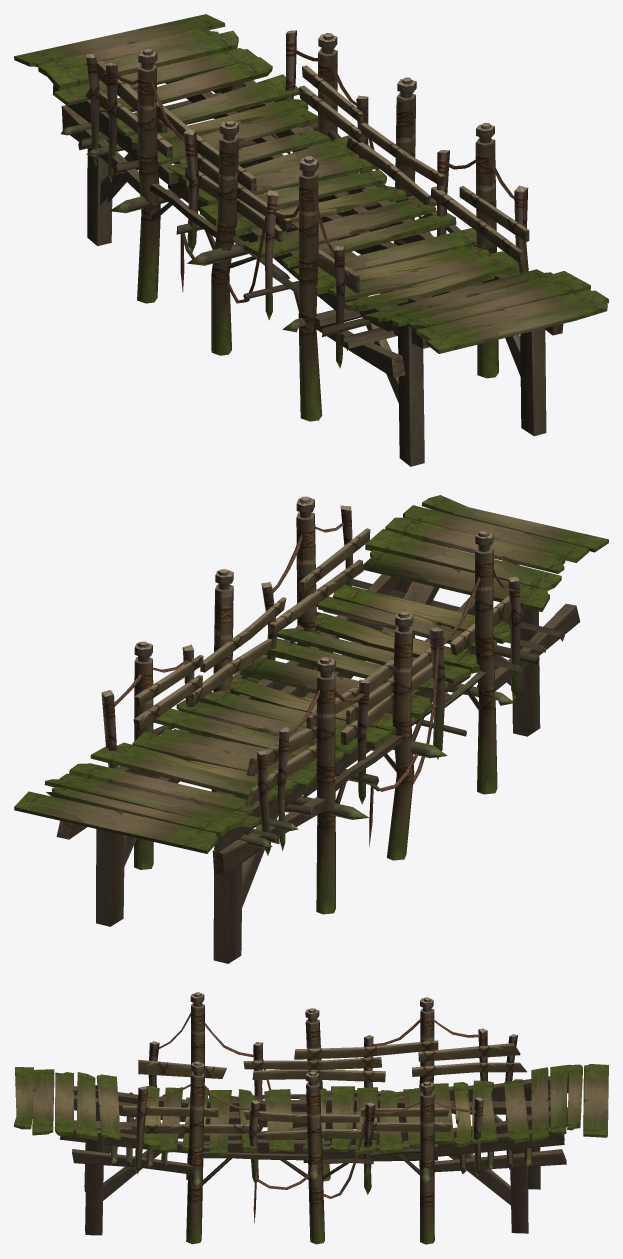
The picture shows the model from 3 angles, top to bottom: view 1: azimuth 30°, elevation 25°; view 2: azimuth 150°, elevation 25°; view 3: azimuth 270°, elevation 25°; orthographic projection. The views are drawn at different scales.
Visible parts, largest first — view 1: MB0002_12_01_01; view 2: MB0002_12_01_01; view 3: MB0002_12_01_01.
Boxes of the visible parts, left/top/right/bottom form: MB0002_12_01_01: left=14, top=14, right=608, bottom=466; MB0002_12_01_01: left=14, top=495, right=608, bottom=963; MB0002_12_01_01: left=14, top=992, right=608, bottom=1244.
Bounding box in the file's own units: 6.13 × 5.73 × 16.66.
